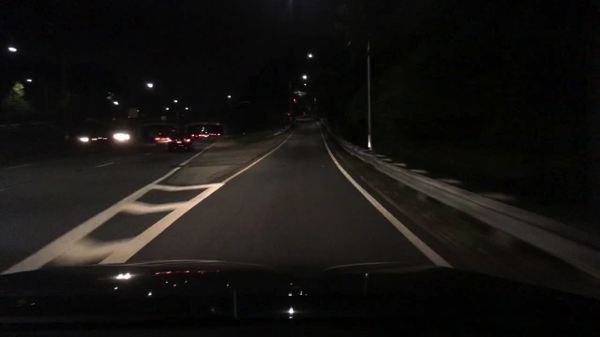car: (76, 116, 137, 151), (168, 131, 196, 153), (154, 129, 172, 146), (192, 130, 202, 140), (210, 132, 221, 136), (204, 132, 208, 139)
traffic light: (294, 98, 297, 104)
